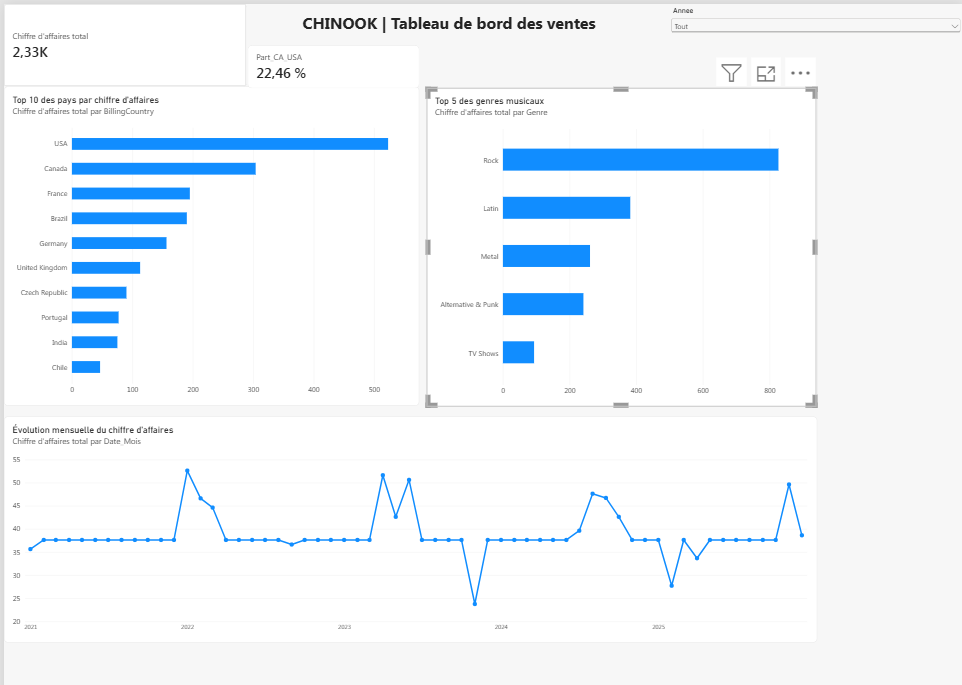

Layout of this report page (visuals, bound fields, positions):
{"tool":"powerbi","page":{"name":"Page 1","canvas":[1920,1400],"ordinal":0},"visuals":[{"type":"cardVisual","title":"Chiffre d''affaires total","fields":{"Data":["InvoiceLine.Chiffre_Affaires_DAX"]},"box":[0,0,486,166],"z":0},{"type":"slicer","fields":{"Values":["Invoice.Annee"]},"box":[1330,4,590,78],"z":1000},{"type":"clusteredBarChart","title":"Top 10 des pays par chiffre d''affaires","fields":{"Category":["Invoice.BillingCountry"],"Y":["InvoiceLine.Chiffre_Affaires_DAX"]},"box":[0,166,830,638],"z":2000},{"type":"clusteredBarChart","title":"Top 5 des genres musicaux","fields":{"Category":["Genre.Name"],"Y":["InvoiceLine.Chiffre_Affaires_DAX"]},"box":[844,168,782,638],"z":3000},{"type":"lineChart","title":"Évolution mensuelle du chiffre d''affaires","fields":{"Category":["Invoice.Date_Mois"],"Y":["InvoiceLine.Chiffre_Affaires_DAX"]},"box":[0,824,1626,452],"z":4000},{"type":"textbox","box":[280,14,1220,178],"z":5000},{"type":"cardVisual","fields":{"Data":["InvoiceLine.Part_CA_USA"]},"box":[486.7,81.7,343.3,86.7],"z":5001}]}

Visuals, with their boxes in screenshot pixels (x1, y1, x2, y2), scaled from the page's 1920x1400 canvas onto the 962x685 screenshot:
"Chiffre d''affaires total" cardVisual: rect(0, 0, 244, 81)
slicer - Invoice.Annee: rect(666, 2, 961, 40)
"Top 10 des pays par chiffre d''affaires" clusteredBarChart: rect(0, 81, 416, 393)
"Top 5 des genres musicaux" clusteredBarChart: rect(423, 82, 815, 394)
"Évolution mensuelle du chiffre d''affaires" lineChart: rect(0, 403, 815, 624)
textbox: rect(140, 7, 752, 94)
cardVisual - InvoiceLine.Part_CA_USA: rect(244, 40, 416, 82)
